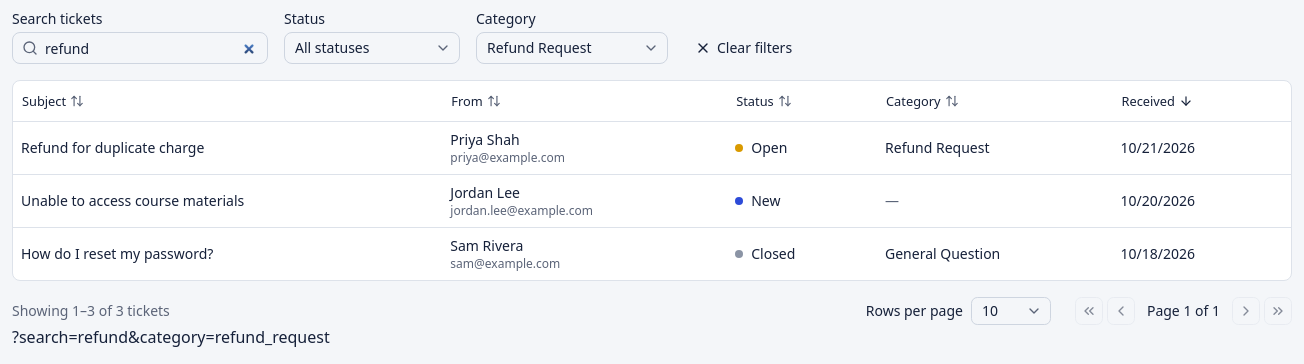
Test: TicketsTable › search › clears the search box and filters together
Expected: the link "Refund for duplicate charge" is shown, [21,138,204,156]
What coordinates should you click on to do the following:
click the button "Clear filters"
I would click on:
 (744, 48)
Its box is [684,32,803,64].
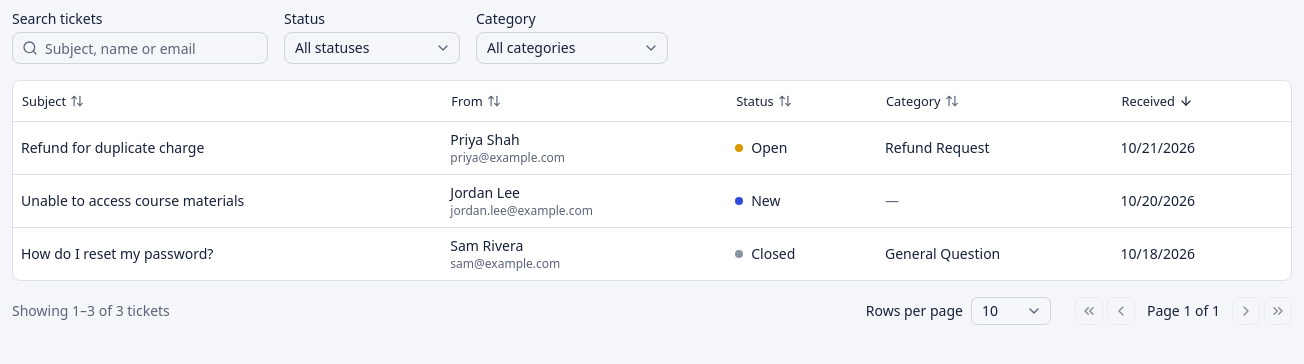
Now the search field labelled "Search tickets" is empty, box [12,32,268,64]
Now the dropdown named "Category" reads "All categories", box [476,32,668,64]
